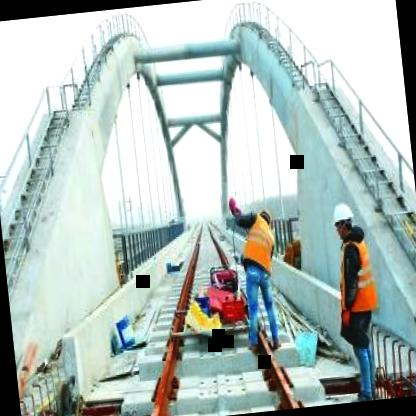helmet: (330, 198, 357, 242), (256, 200, 274, 228)
